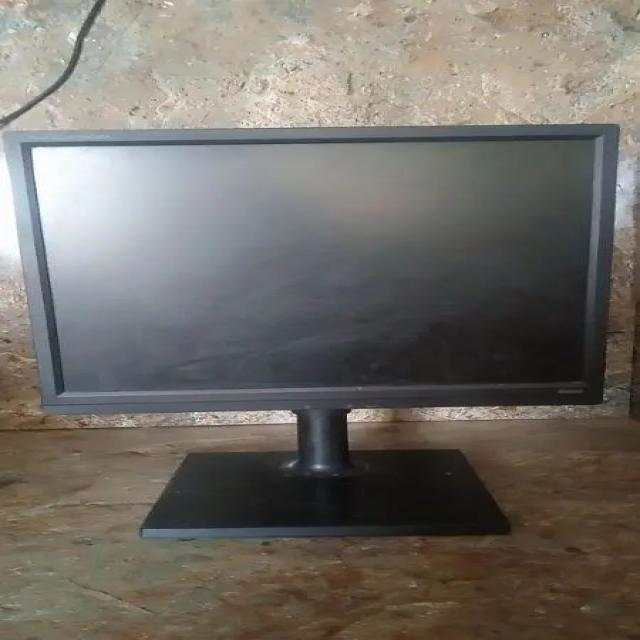electronic: (0, 90, 640, 596)
